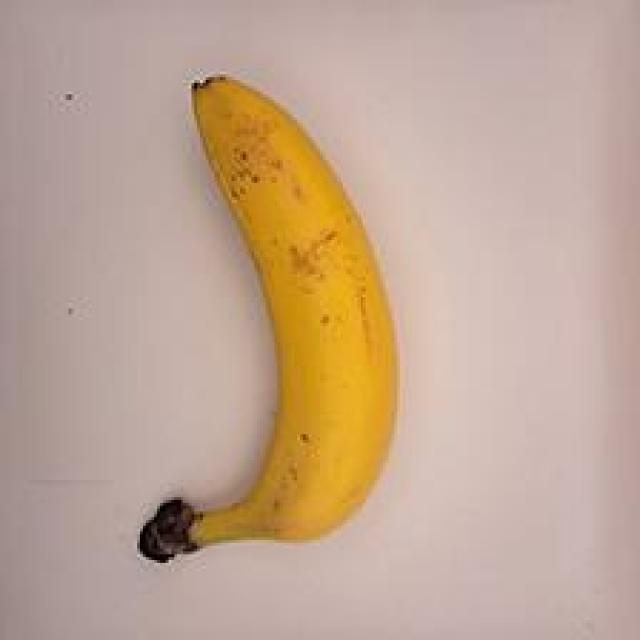ripe: (124, 74, 420, 574)
